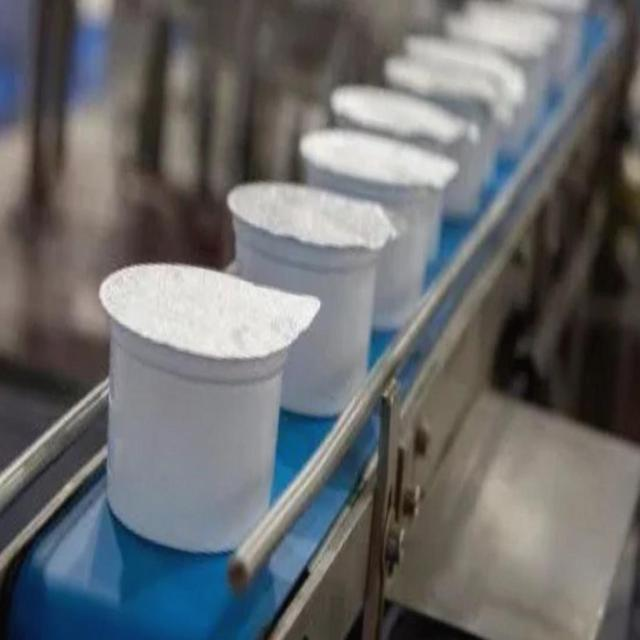food: (97, 259, 322, 556), (225, 178, 398, 419), (297, 125, 459, 332)
